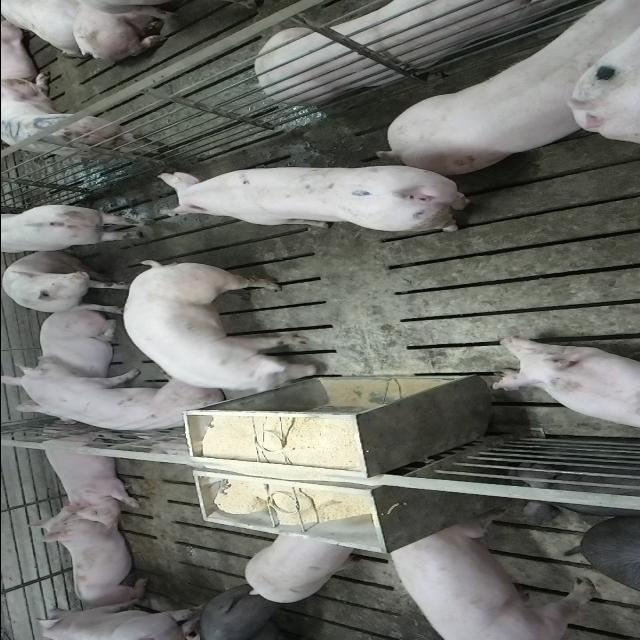Sitting: (4, 362, 228, 438), (1, 251, 123, 316)
Standing: (117, 258, 316, 396), (384, 518, 602, 639), (155, 163, 479, 233), (242, 532, 361, 603), (2, 202, 154, 254), (3, 114, 158, 162), (190, 587, 318, 640), (27, 606, 204, 640)
Sternal_lying: (248, 0, 576, 102), (489, 335, 640, 433), (35, 510, 149, 612), (31, 424, 140, 526), (23, 312, 122, 418)
